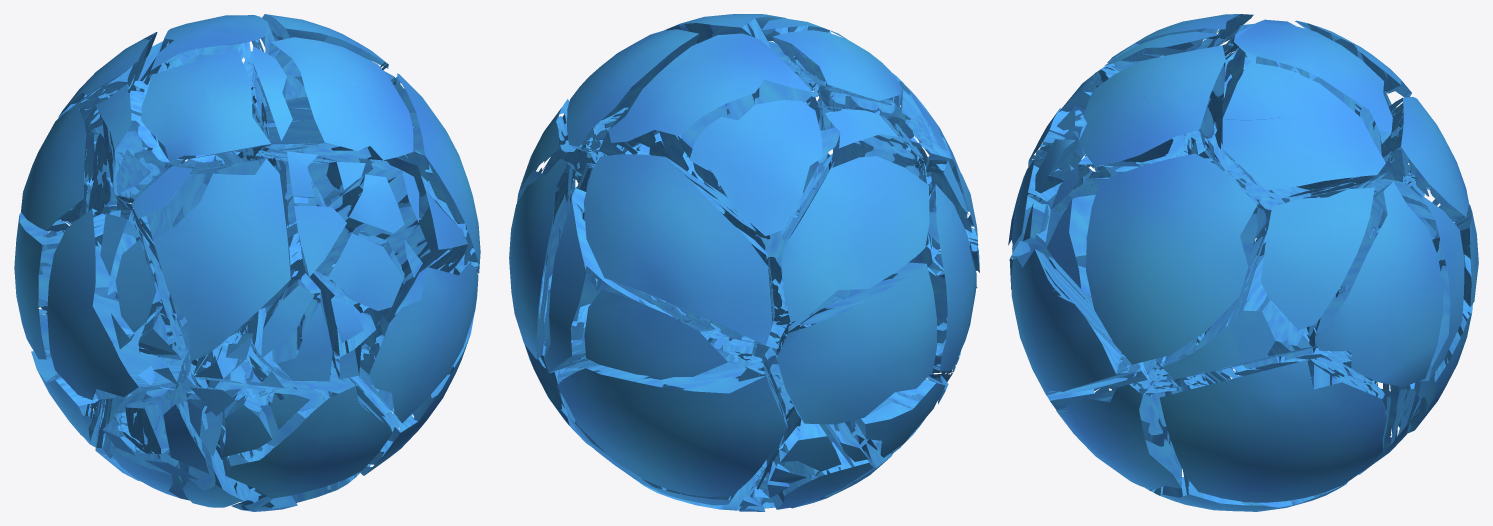
Rendered from Broken_Player_Core.fbx.
The picture shows the model from 3 angles, left to right: view 1: azimuth 30°, elevation 25°; view 2: azimuth 150°, elevation 25°; view 3: azimuth 270°, elevation 25°; orthographic projection.
Visible parts, largest first — view 1: Player Core_cell.034, Player Core_cell.043, Player Core_cell.026, Player Core_cell.038, Player Core_cell.029, Player Core_cell.048, Player Core_cell.056, Player Core_cell.016, Player Core_cell.057, Player Core_cell.066, Player Core_cell.041_cell.004, Player Core_cell.037_cell.002 (+37 smaller); view 2: Player Core_cell.067, Player Core_cell.069, Player Core_cell.058, Player Core_cell.057, Player Core_cell.066, Player Core_cell.061, Player Core_cell.068, Player Core_cell.001, Player Core_cell, Player Core_cell.056, Player Core_cell.008, Player Core_cell.043 (+19 smaller); view 3: Player Core_cell.016, Player Core_cell.012, Player Core_cell.001, Player Core_cell.008, Player Core_cell.026, Player Core_cell.009, Player Core_cell.029, Player Core_cell.010, Player Core_cell.066, Player Core_cell.032, Player Core_cell.067, Player Core_cell (+17 smaller).
Boxes of the visible parts, x1=… form: Player Core_cell.034: x1=146, y1=157, x2=290, y2=361; Player Core_cell.043: x1=47, y1=208, x2=191, y2=400; Player Core_cell.026: x1=261, y1=37, x2=413, y2=160; Player Core_cell.038: x1=214, y1=348, x2=392, y2=498; Player Core_cell.029: x1=358, y1=263, x2=478, y2=423; Player Core_cell.048: x1=141, y1=49, x2=270, y2=162; Player Core_cell.056: x1=69, y1=80, x2=244, y2=313; Player Core_cell.016: x1=391, y1=73, x2=480, y2=273; Player Core_cell.057: x1=21, y1=107, x2=86, y2=230; Player Core_cell.066: x1=147, y1=15, x2=302, y2=161; Player Core_cell.041_cell.004: x1=314, y1=227, x2=404, y2=310; Player Core_cell.037_cell.002: x1=244, y1=266, x2=332, y2=381; Player Core_cell.067: x1=584, y1=154, x2=774, y2=345; Player Core_cell.069: x1=557, y1=350, x2=787, y2=497; Player Core_cell.058: x1=777, y1=262, x2=936, y2=424; Player Core_cell.057: x1=782, y1=156, x2=929, y2=322; Player Core_cell.066: x1=599, y1=33, x2=812, y2=198; Player Core_cell.061: x1=689, y1=100, x2=822, y2=235; Player Core_cell.068: x1=584, y1=289, x2=755, y2=377; Player Core_cell.001: x1=509, y1=158, x2=575, y2=359; Player Core_cell: x1=544, y1=162, x2=705, y2=373; Player Core_cell.056: x1=729, y1=105, x2=924, y2=325; Player Core_cell.008: x1=567, y1=29, x2=698, y2=153; Player Core_cell.043: x1=909, y1=184, x2=976, y2=371; Player Core_cell.016: x1=1086, y1=153, x2=1259, y2=364; Player Core_cell.012: x1=1159, y1=355, x2=1391, y2=502; Player Core_cell.001: x1=1315, y1=181, x2=1442, y2=387; Player Core_cell.008: x1=1222, y1=62, x2=1385, y2=199; Player Core_cell.026: x1=1079, y1=45, x2=1225, y2=166; Player Core_cell.009: x1=1260, y1=187, x2=1374, y2=330; Player Core_cell.029: x1=1011, y1=249, x2=1156, y2=395; Player Core_cell.010: x1=1140, y1=170, x2=1321, y2=382; Player Core_cell.066: x1=1213, y1=19, x2=1392, y2=191; Player Core_cell.032: x1=1056, y1=377, x2=1182, y2=490; Player Core_cell.067: x1=1364, y1=97, x2=1469, y2=222; Player Core_cell: x1=1314, y1=170, x2=1464, y2=381.
Size of the model in its own units: 13.2 by 14.17 by 13.33.
